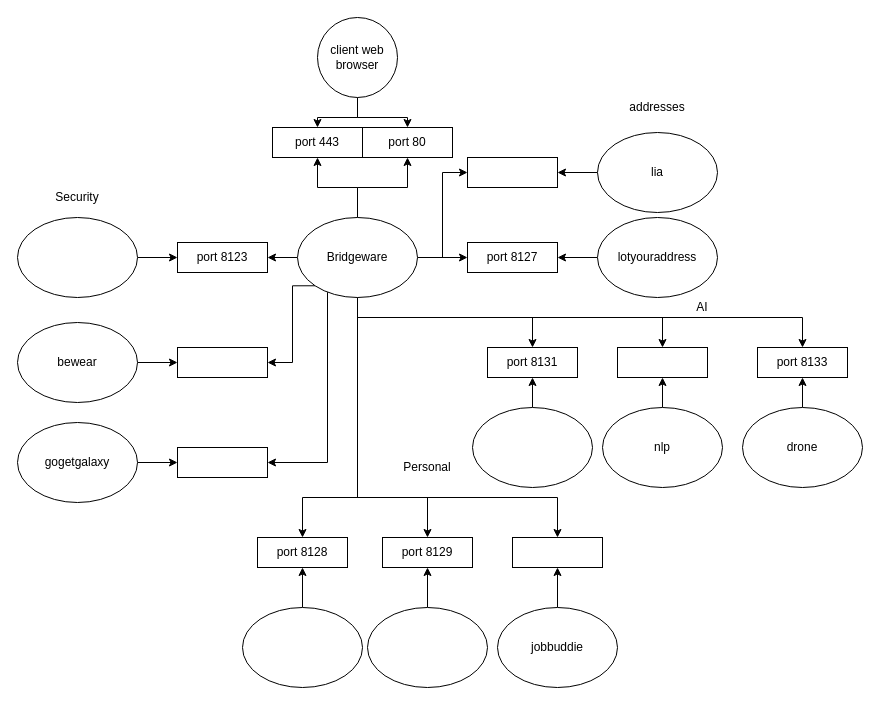
Image size: 880x705. Some labels were removed from this diagram. The shapes that lost their labels are listed below. From the top down, each one's box as (x1, y1, x2, y2) in pixels, then its label:
(466, 156, 558, 188): port 8126
(16, 216, 138, 298): cpelookup
(176, 346, 268, 378): port 8124
(616, 346, 708, 378): port 8132
(176, 446, 268, 478): port 8125
(472, 406, 592, 488): car
(512, 536, 602, 568): port 8130
(242, 606, 362, 688): notes
(366, 606, 488, 688): video
